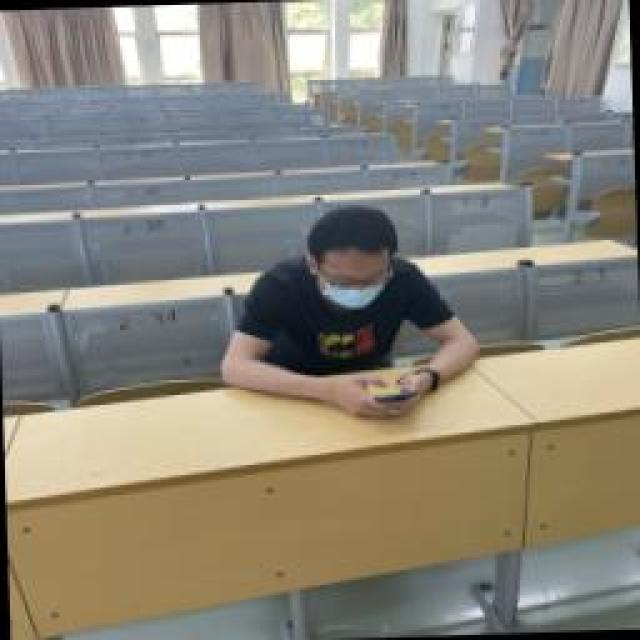phone: (217, 203, 485, 425)
